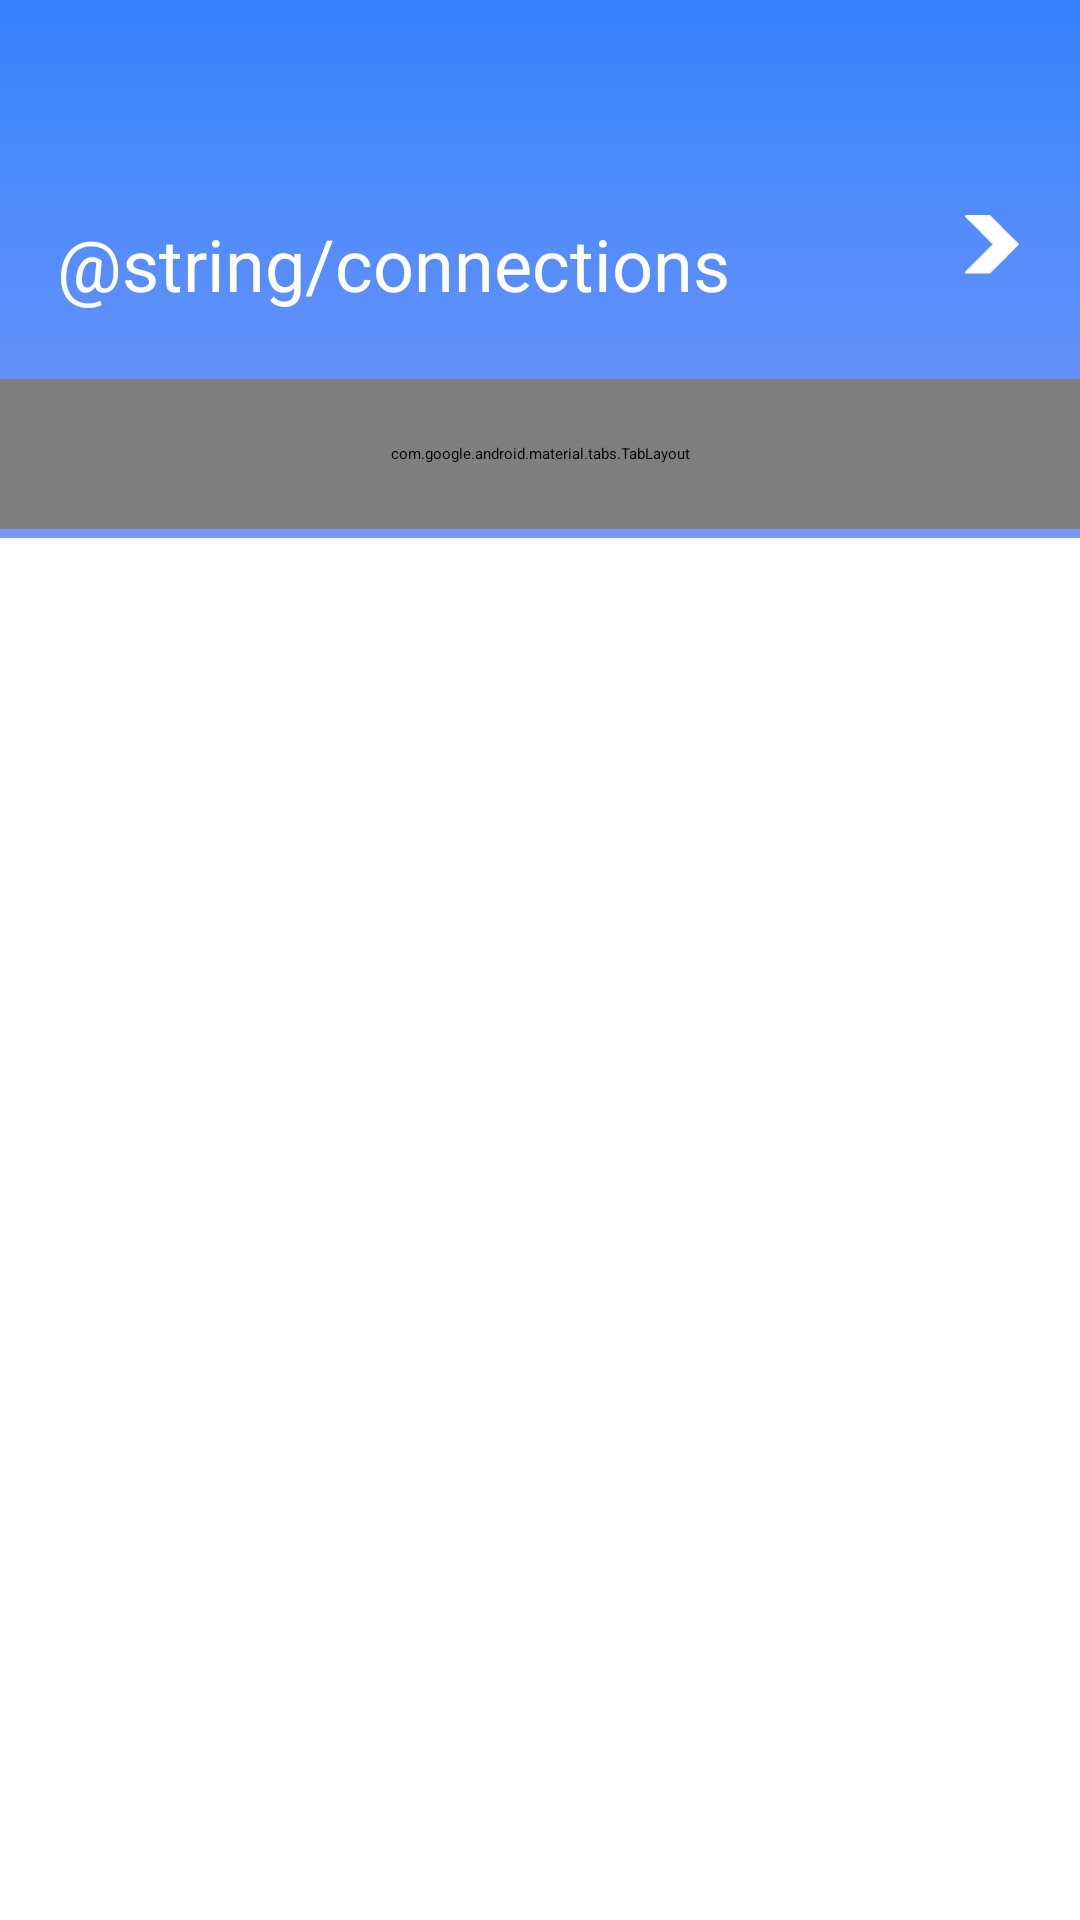

Point at icon controls on the screen. Image size 1080×1920, points as point (x, y).
forward: point (992, 244)
